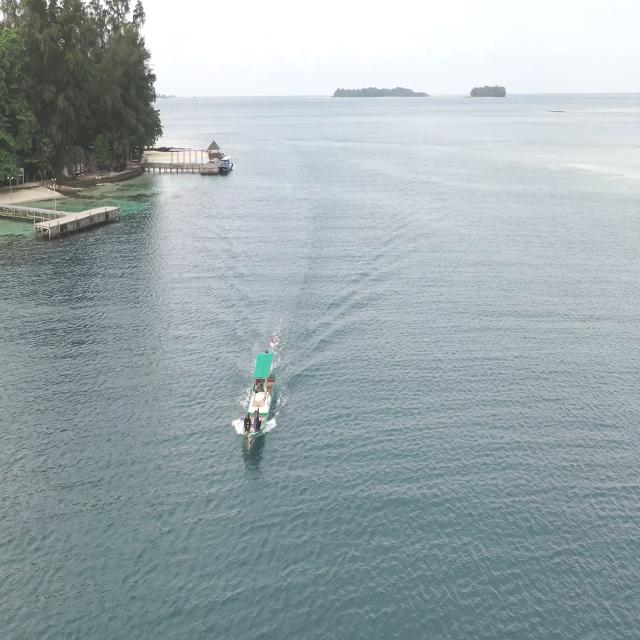ship: (236, 341, 289, 449)
